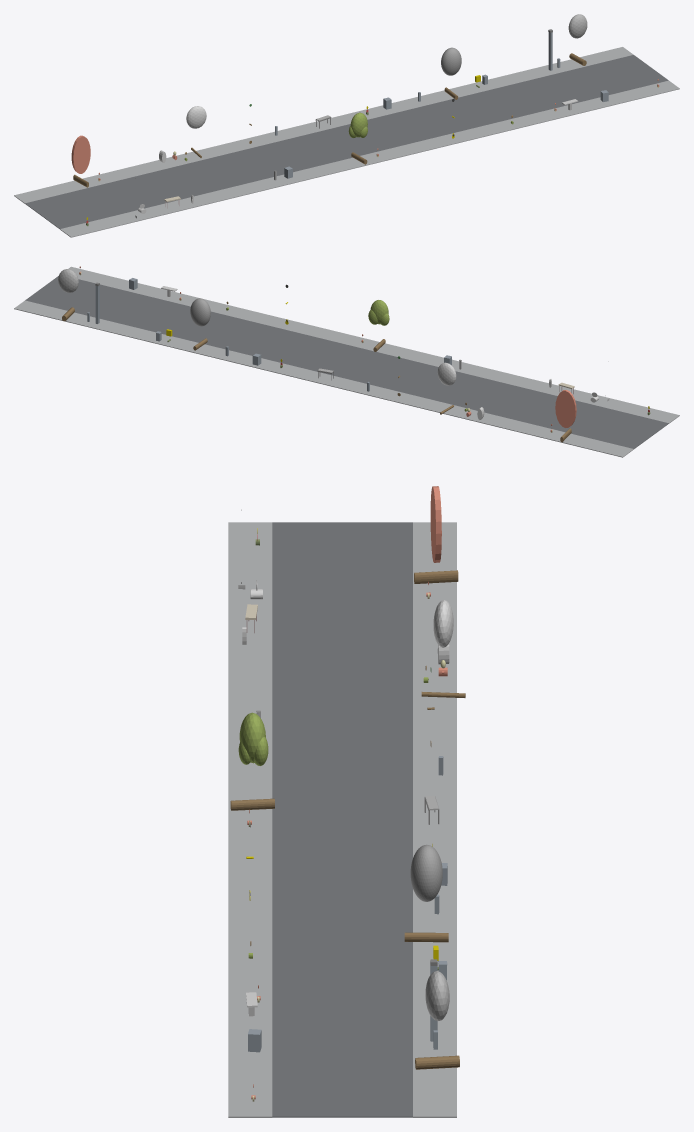
3 renders of one model, top to bottom at view 1: azimuth 30°, elevation 25°; view 2: azimuth 150°, elevation 25°; view 3: azimuth 270°, elevation 25°, orthographic. The views are drawn at different scales.
Parts seen in each view (by area): view 1: road_slab, sidewalk_left, sidewalk_right, inst_0012, inst_0015, inst_0014, inst_0016, inst_0013; view 2: road_slab, sidewalk_right, sidewalk_left, inst_0012, inst_0015, inst_0014, inst_0016, inst_0013; view 3: road_slab, sidewalk_left, sidewalk_right, inst_0015, inst_0014, inst_0016, inst_0012, inst_0013.
Boxes of the visible parts, left/top/right/bottom form: road_slab: left=25, top=55, right=668, bottom=228; sidewalk_left: left=60, top=80, right=679, bottom=237; sidewalk_right: left=14, top=47, right=633, bottom=203; inst_0012: left=71, top=135, right=90, bottom=187; inst_0015: left=441, top=47, right=461, bottom=99; inst_0014: left=348, top=112, right=367, bottom=164; inst_0016: left=568, top=14, right=587, bottom=65; inst_0013: left=186, top=106, right=206, bottom=157; road_slab: left=25, top=276, right=668, bottom=448; sidewalk_right: left=14, top=300, right=633, bottom=457; sidewalk_left: left=68, top=266, right=679, bottom=423; inst_0012: left=555, top=390, right=576, bottom=442; inst_0015: left=190, top=298, right=210, bottom=350; inst_0014: left=368, top=300, right=389, bottom=351; inst_0016: left=58, top=269, right=78, bottom=321; inst_0013: left=437, top=362, right=456, bottom=414; road_slab: left=272, top=522, right=412, bottom=1117; sidewalk_left: left=228, top=522, right=272, bottom=1117; sidewalk_right: left=413, top=522, right=456, bottom=1117; inst_0015: left=404, top=844, right=448, bottom=942; inst_0014: left=230, top=712, right=274, bottom=810; inst_0016: left=415, top=971, right=459, bottom=1069; inst_0012: left=414, top=486, right=458, bottom=583; inst_0013: left=421, top=600, right=465, bottom=697.
Size of the model in its own units: 80 by 6.08 by 13.5.
